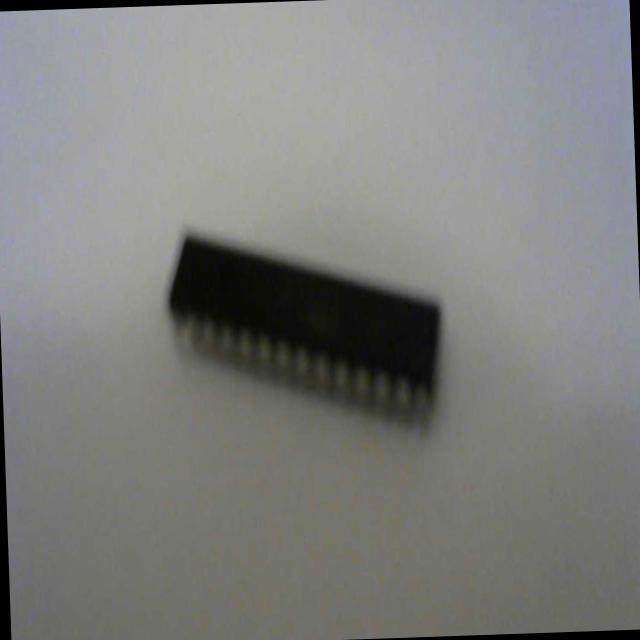atmega: (162, 215, 447, 442)
